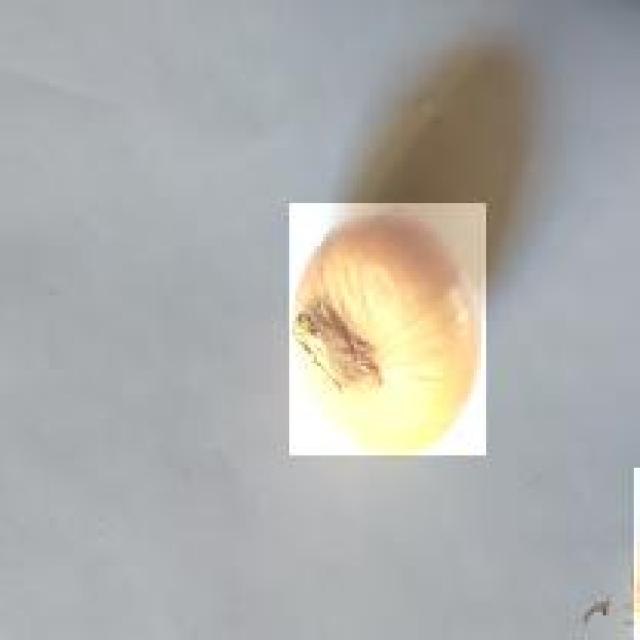onion: (287, 204, 487, 459)
